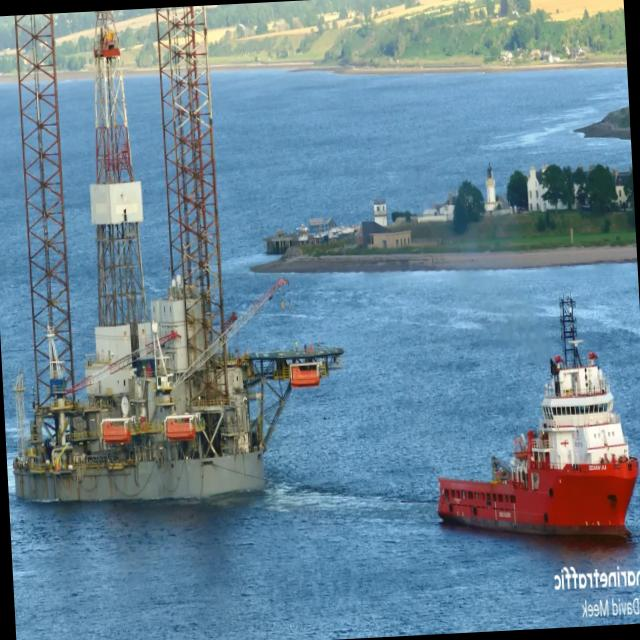Offshore: (438, 297, 639, 535)
